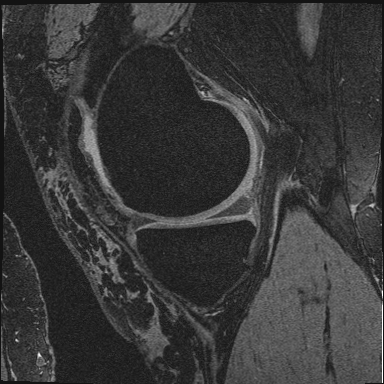effusion: (80, 113, 100, 168)
